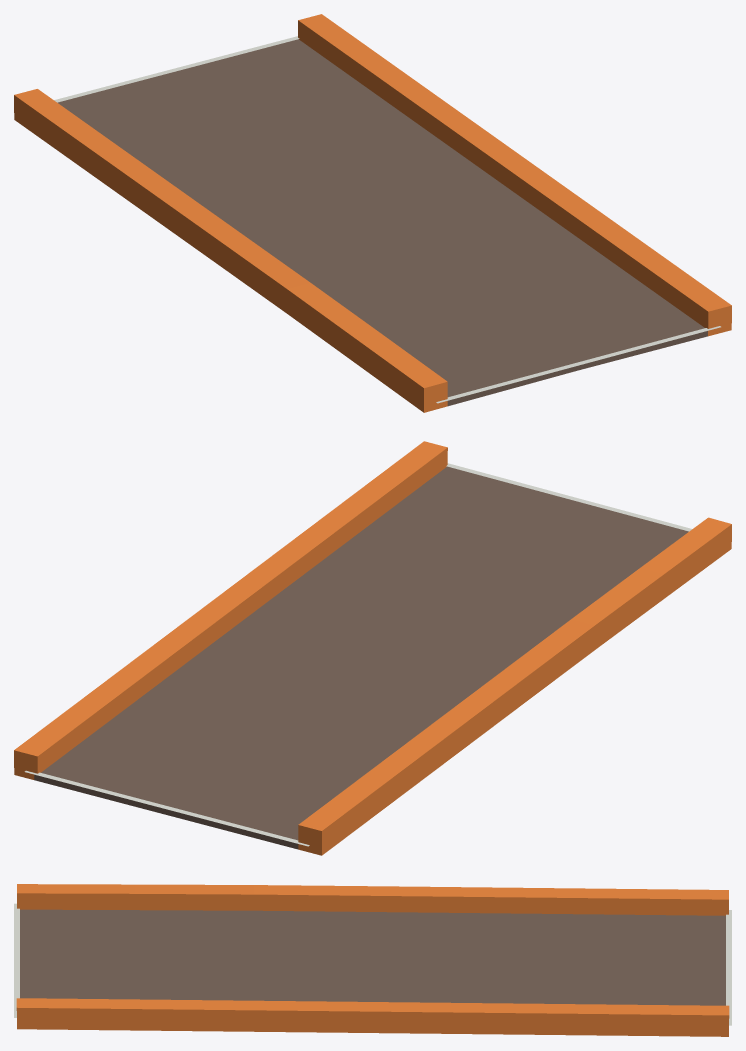
The model's file is SM_MP_Film_C_2_3.fbx.
The picture shows the model from 3 angles, top to bottom: view 1: azimuth 30°, elevation 25°; view 2: azimuth 150°, elevation 25°; view 3: azimuth 270°, elevation 25°; orthographic projection. The views are drawn at different scales.
Visible parts, largest first — view 1: SM_MP_Film_C_2_3; view 2: SM_MP_Film_C_2_3; view 3: SM_MP_Film_C_2_3.
Part boxes in pixels (x1,y1,x2,y2): SM_MP_Film_C_2_3: (14, 14, 731, 412); SM_MP_Film_C_2_3: (14, 441, 731, 855); SM_MP_Film_C_2_3: (14, 884, 731, 1036).
Size of what is drawn, in the model's own units: 260 by 605 by 31.79.
